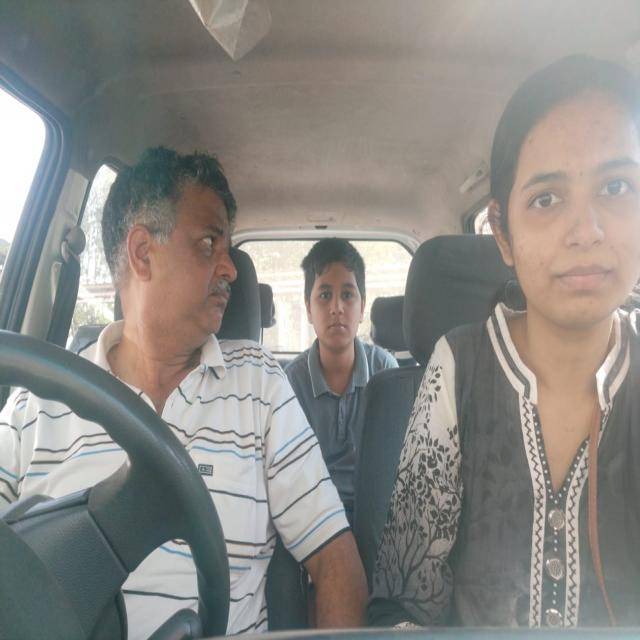LeftRight: (91, 124, 248, 410)
person: (478, 43, 640, 407), (288, 210, 382, 375)
